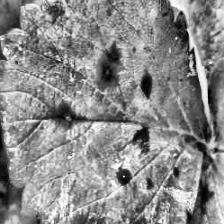Leaf Spot: (0, 0, 213, 224), (136, 0, 224, 155), (119, 146, 224, 224)
